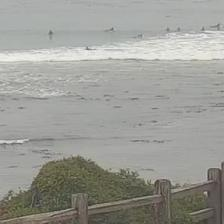surfer: (133, 33, 143, 39), (104, 27, 115, 32), (210, 23, 221, 28), (84, 46, 96, 50), (48, 30, 53, 36), (176, 27, 180, 31), (201, 26, 205, 30), (166, 27, 169, 32)
